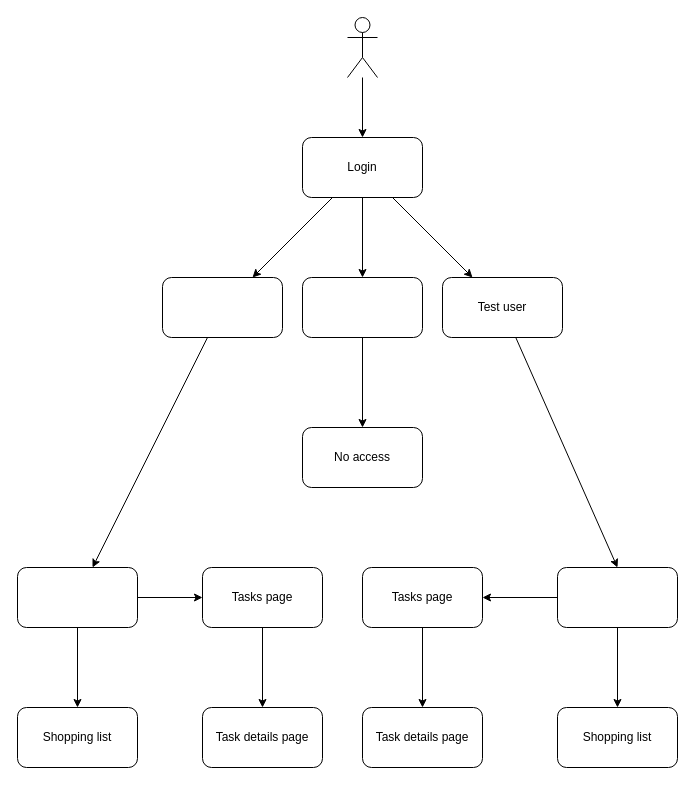
The diagram is 695 pixels wide and 785 high, and some of its shapes have lost their labels. Each missing label, with the centre of its shape:
Auth app home: the point at 77,597
Autorized user: the point at 222,307
Test app home: the point at 617,597
Unautorized user: the point at 362,307
User: the point at 362,47
